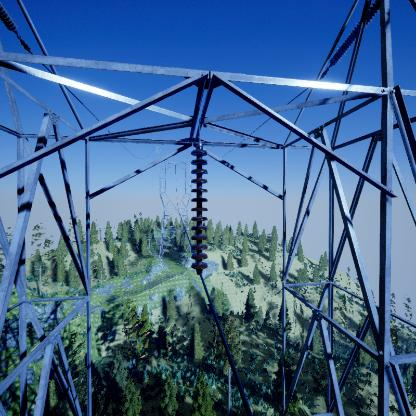insulator: (190, 147, 210, 277)
